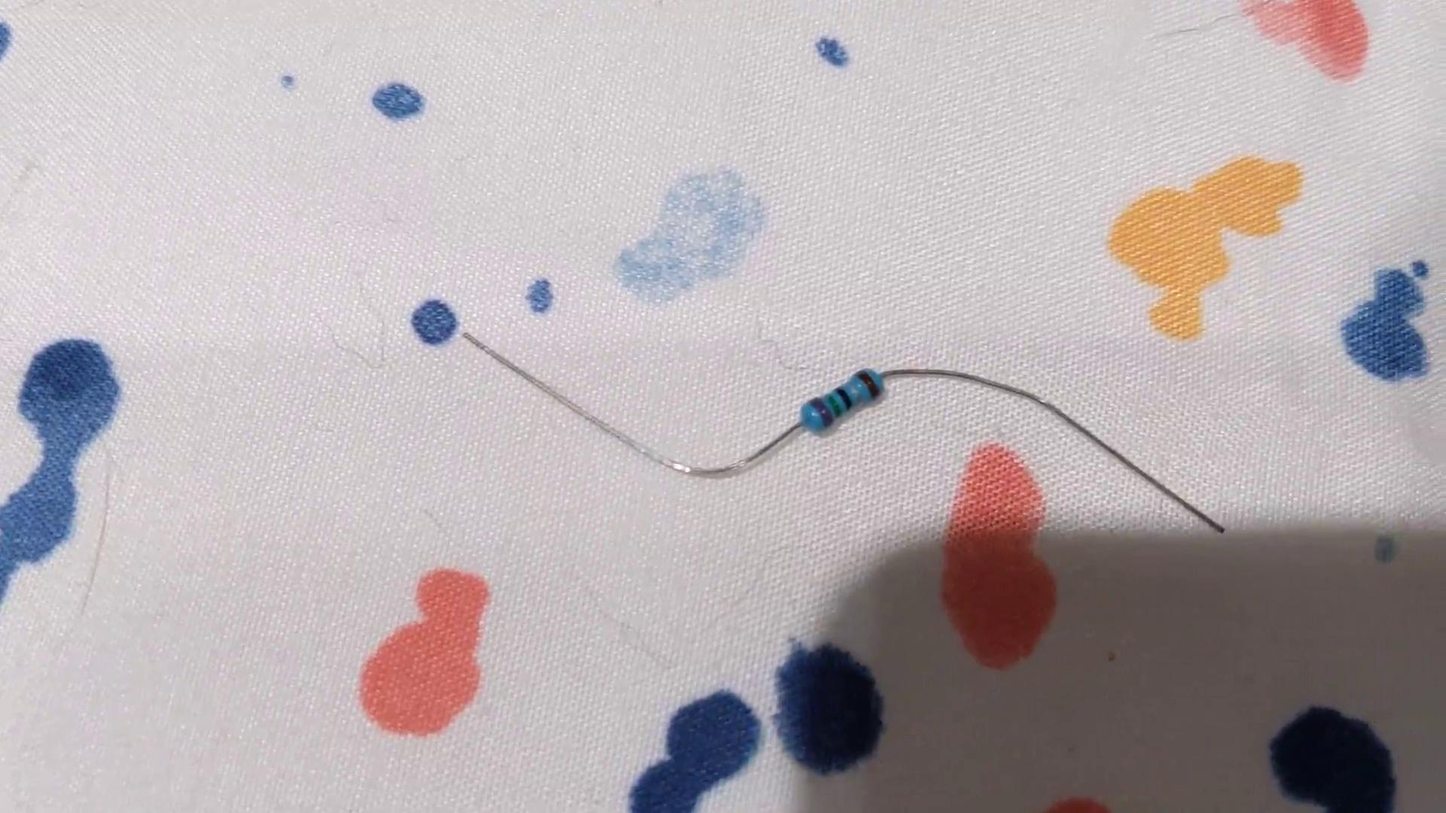resistor: (795, 364, 890, 435)
